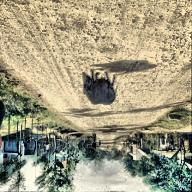boar: (82, 71, 117, 105)
